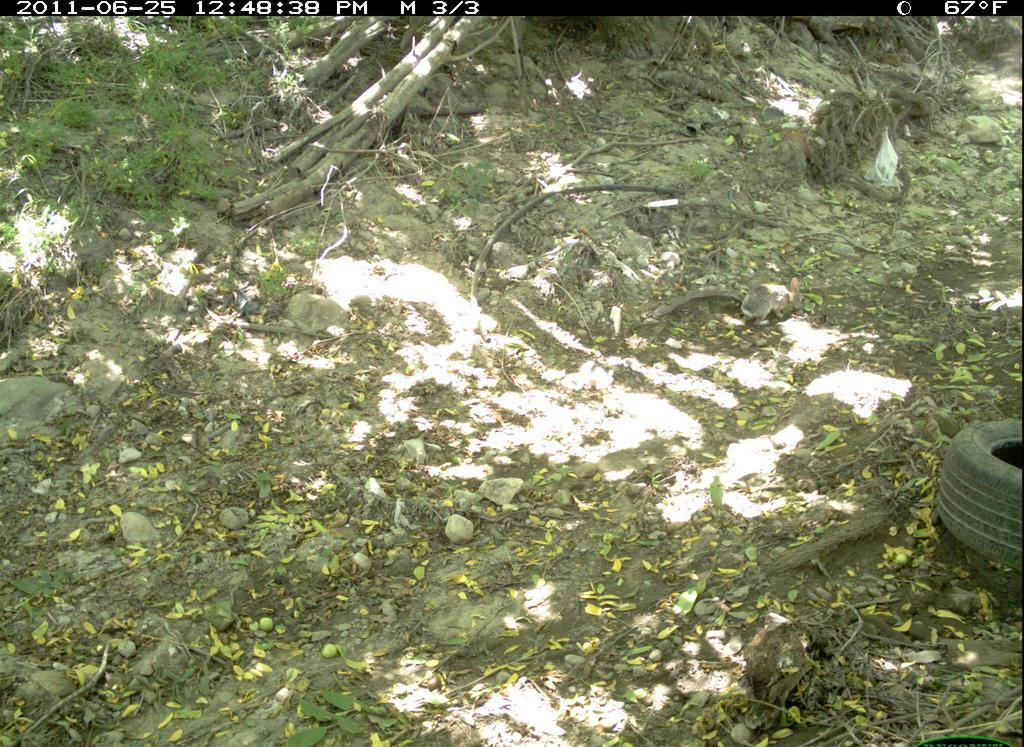rabbit: (734, 273, 813, 331)
